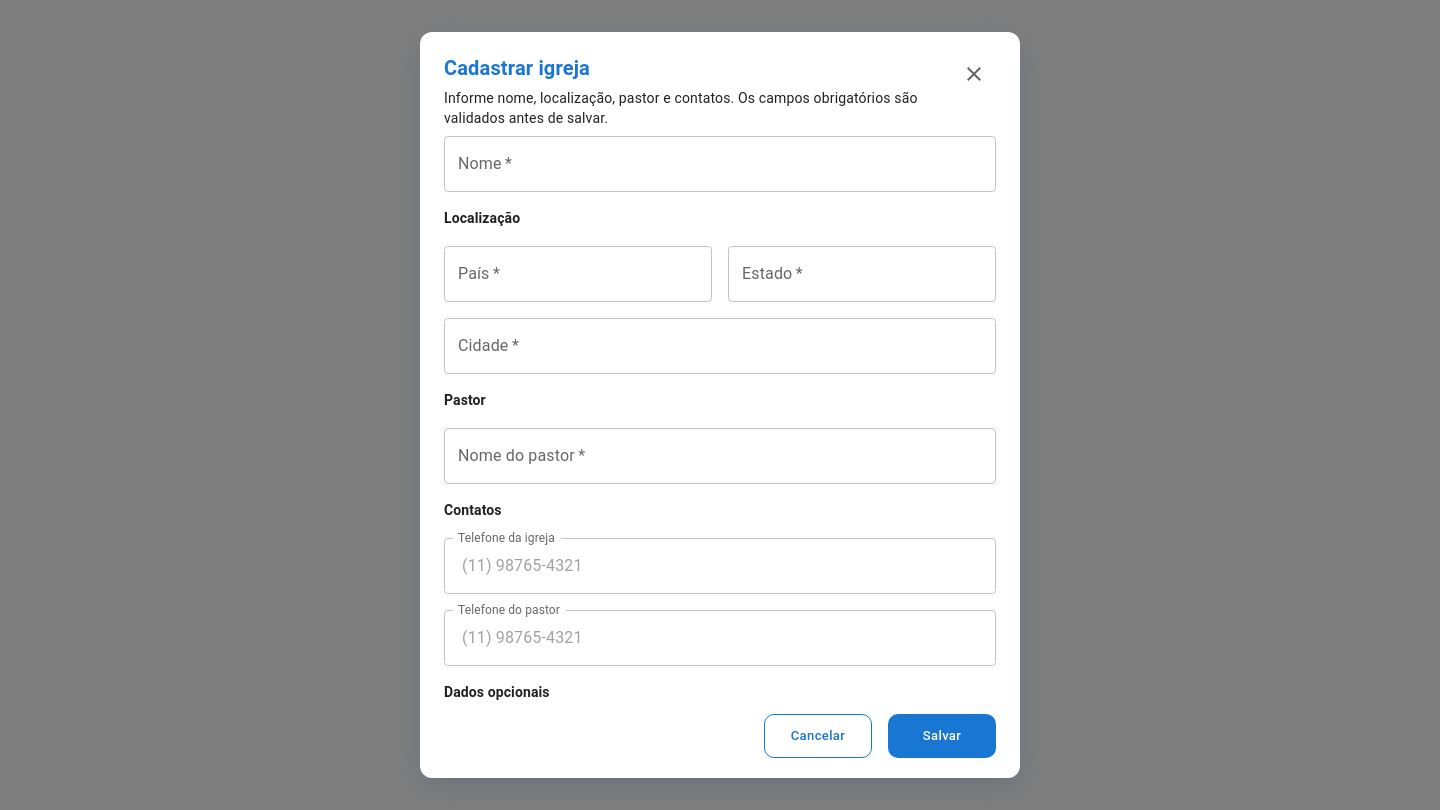
it: CreateFaithCommunityModal › validates required church, location, pastor and contact fields
Expected: the heading "Cadastrar igreja" is shown, 444,56 -> 590,80
Click the button "Salvar".
click(942, 736)  # box 888,714 -> 996,758
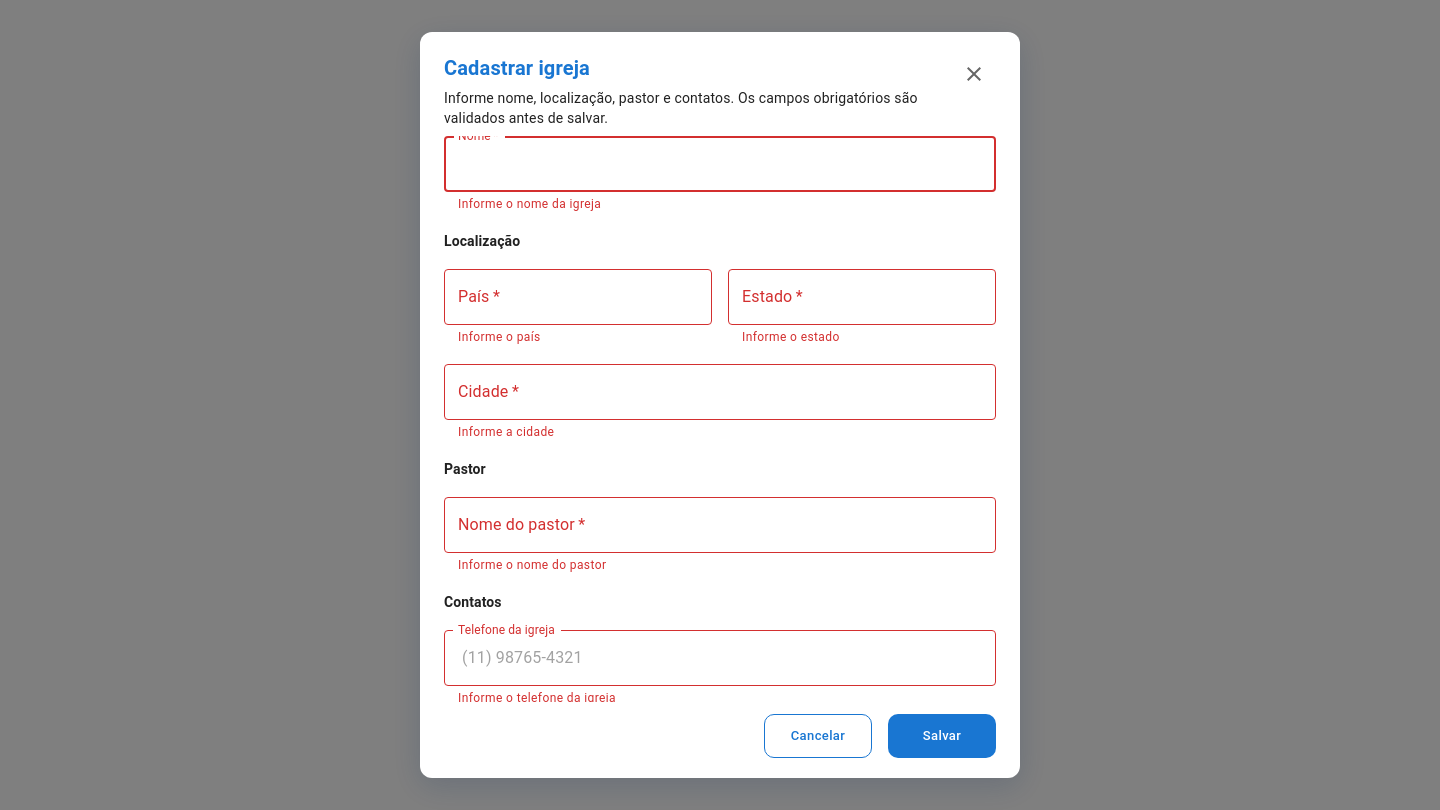
Now the text "Informe o nome da igreja" is shown, box 458,197 -> 601,211
Now the text "Informe o país" is shown, box 458,330 -> 541,344
Now the text "Informe o estado" is shown, box 742,330 -> 840,344
